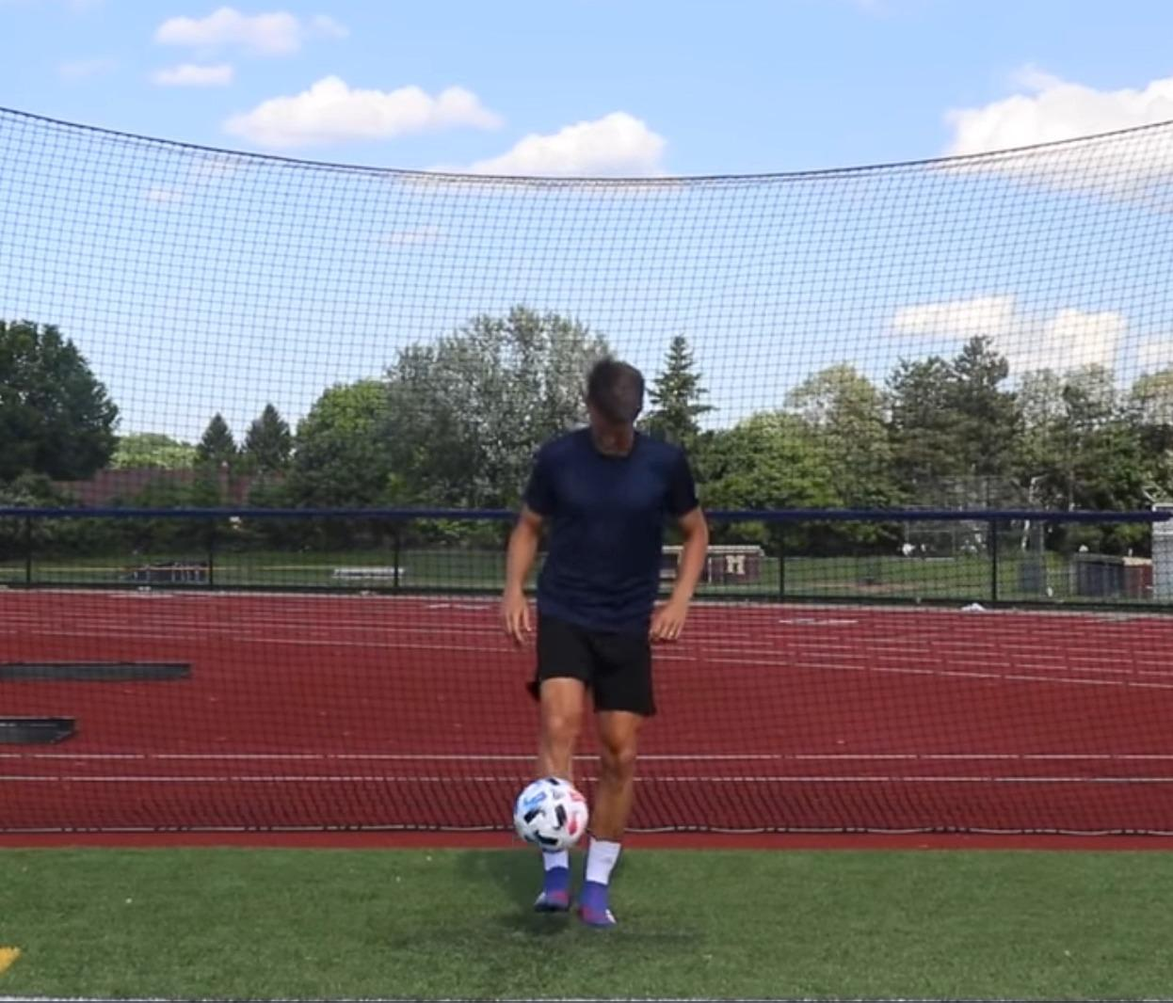ball: (515, 777, 588, 848)
foot: (530, 862, 577, 918), (577, 875, 618, 929)
person: (502, 359, 708, 930)
